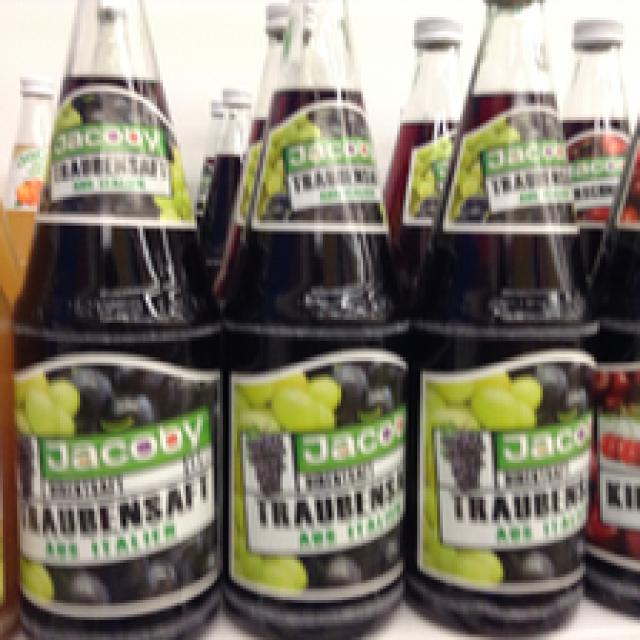groceries: (8, 0, 223, 637), (403, 0, 600, 634), (222, 0, 408, 634)
